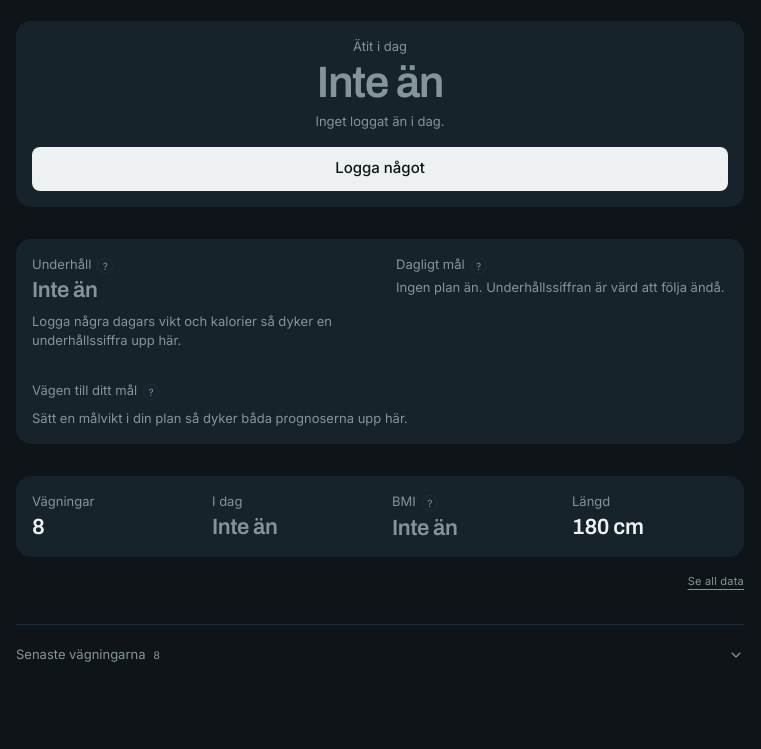
Scenario: the month calendar › offers no way into a month that has not happened
This screenshot has width=761, height=749.
(page scrolled)
Click the button with test id "recent-readings".
click(81, 654)  # box [16,633,744,677]
(page scrolled)
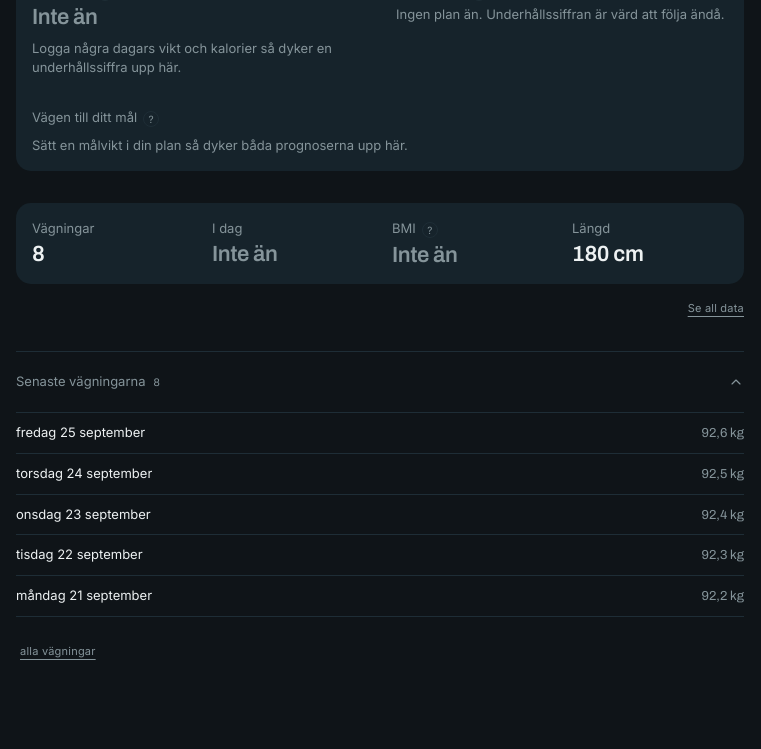
Click the button with test id "open-calendar".
click(58, 651)  # box [16,629,100,673]
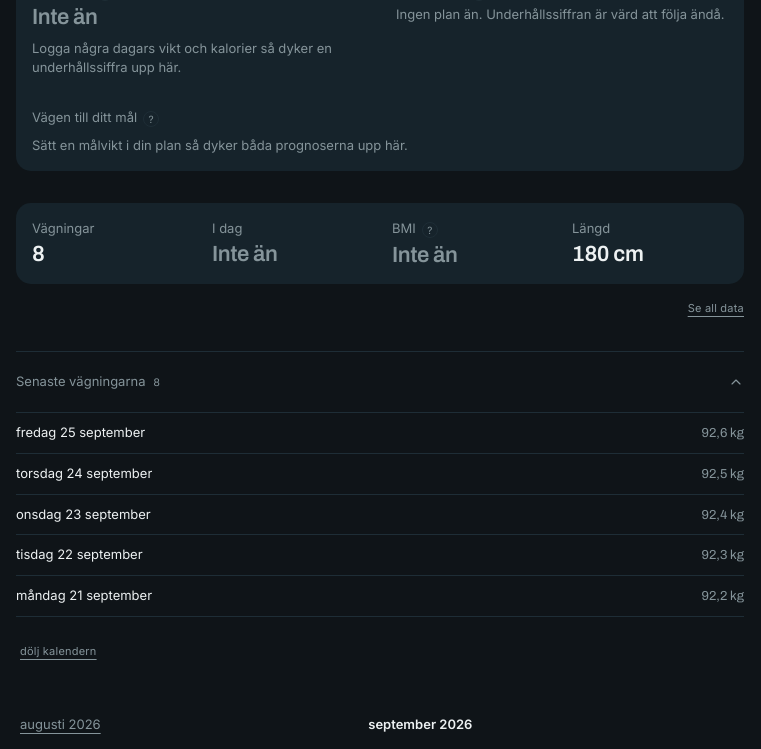
Result: the button with test id "calendar-previous" is shown at [16,702,105,746]
